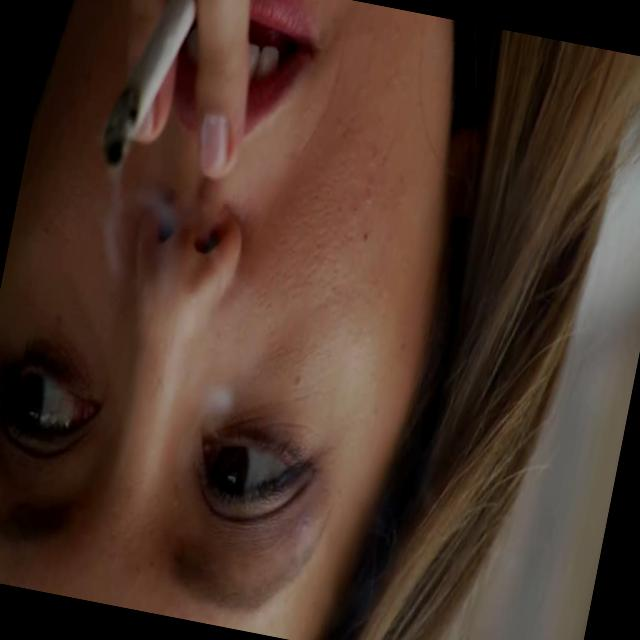smoke: (75, 0, 222, 222)
